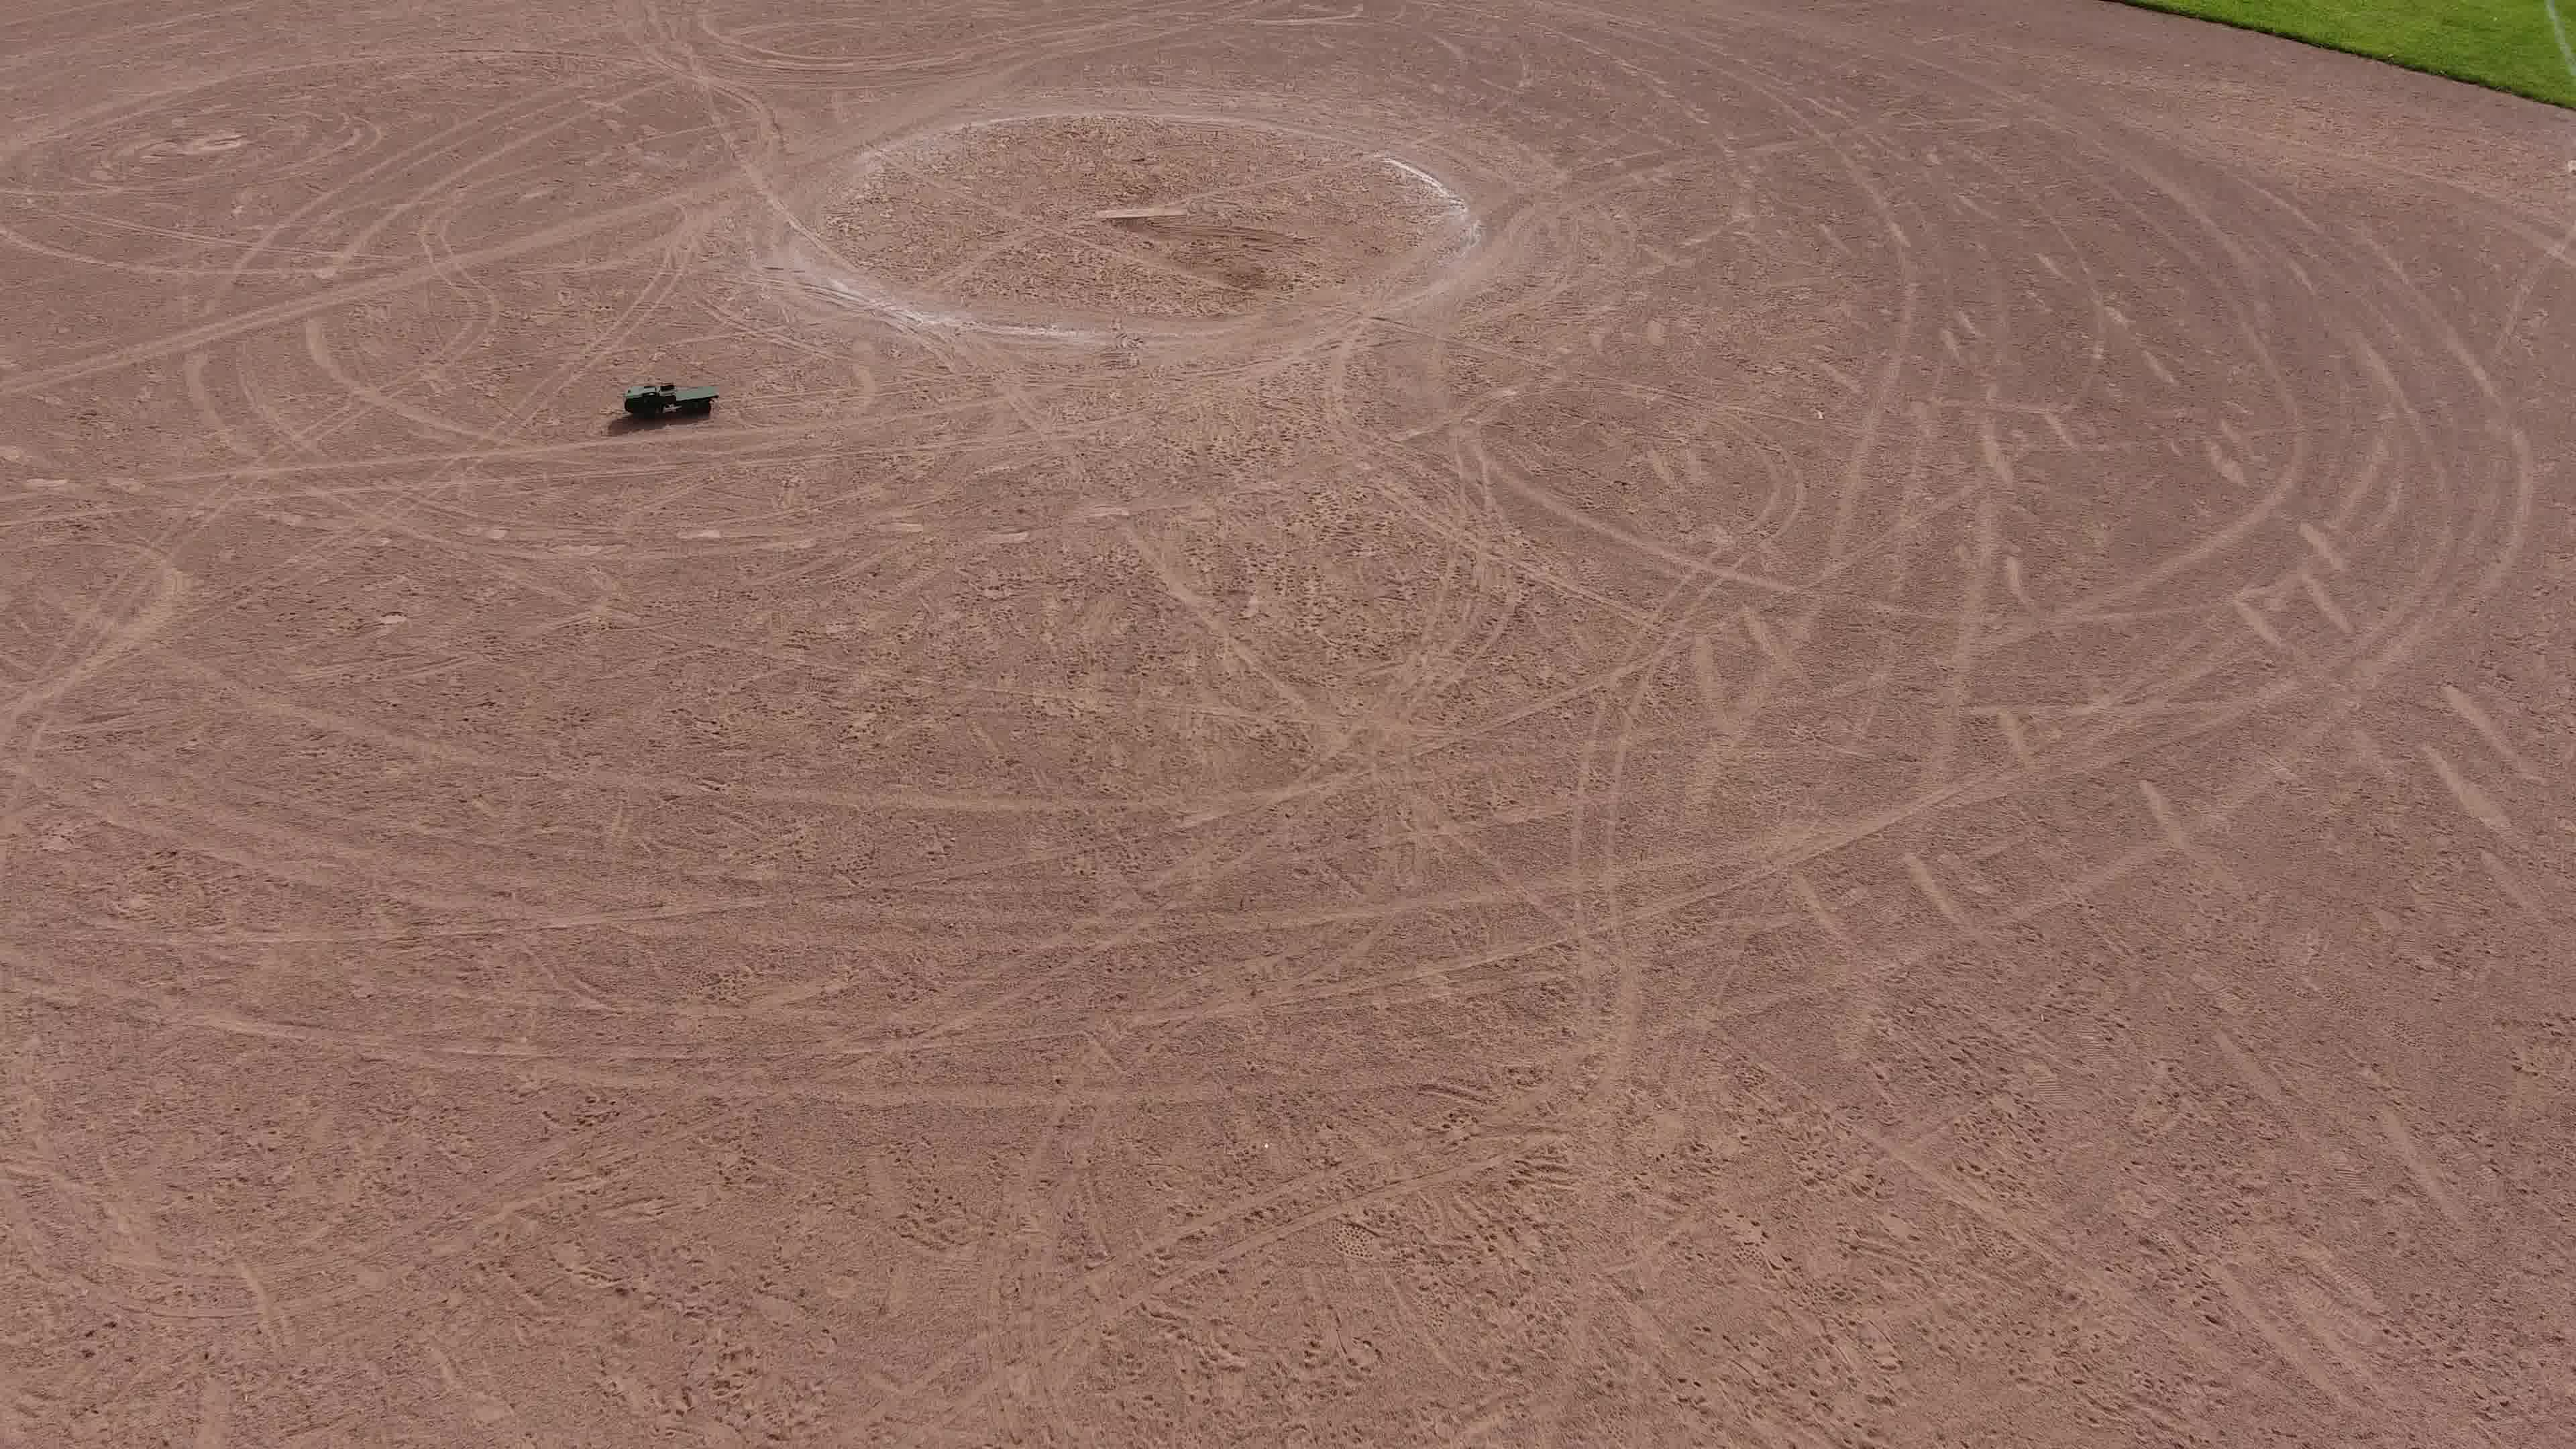transporter9: (621, 375, 724, 421)
